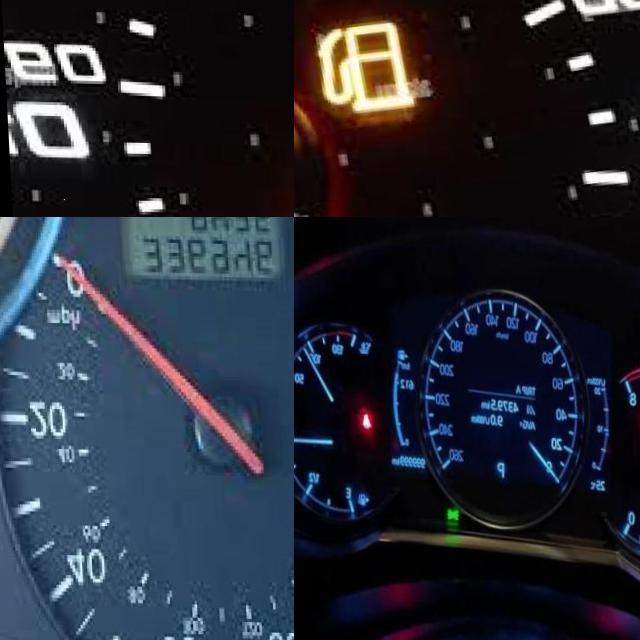Seat Belt: (358, 411, 368, 429)
